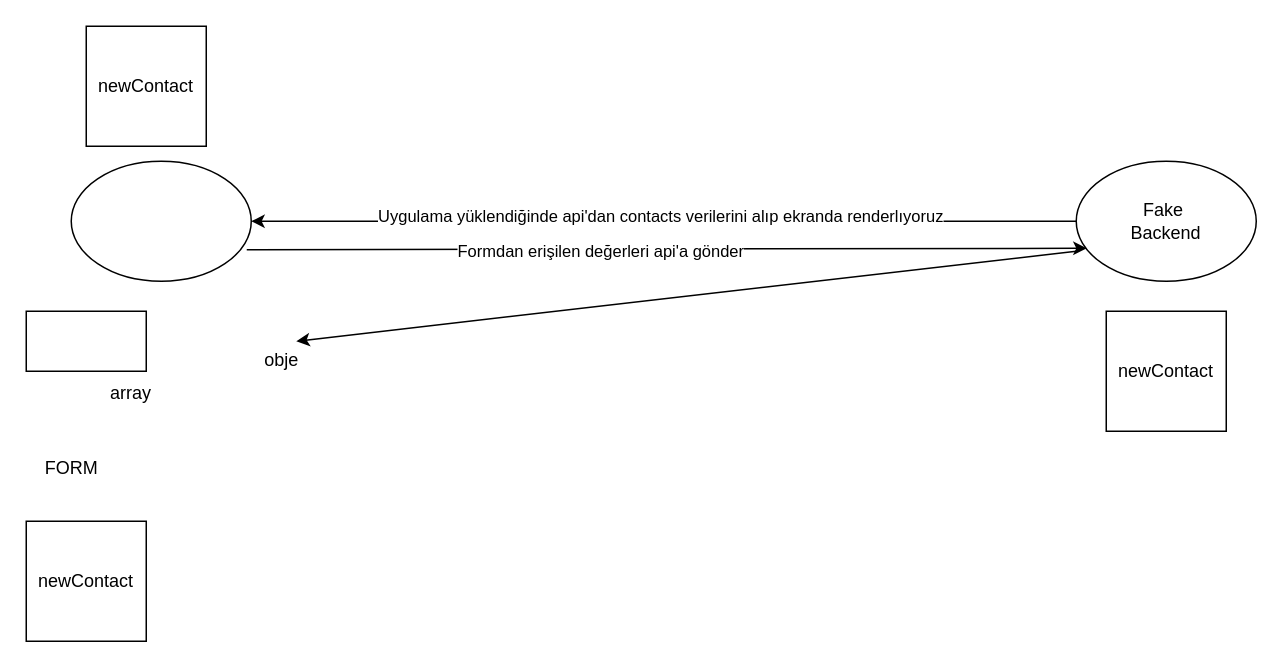
Image size: 1283x668. Some labels were removed from this diagram. Here are the shapes that lost their labels. From the top down, the box of each, then its label:
(70, 160, 251, 281): App
(25, 310, 146, 371): contacts
